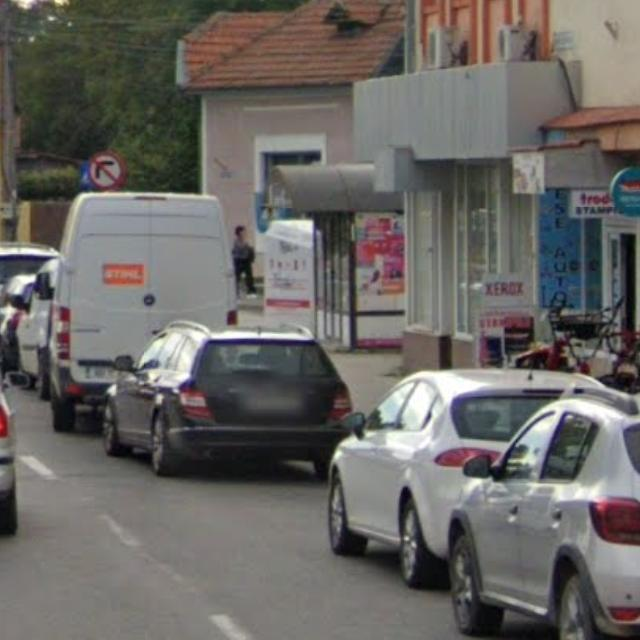forb_right: (87, 151, 127, 190)
